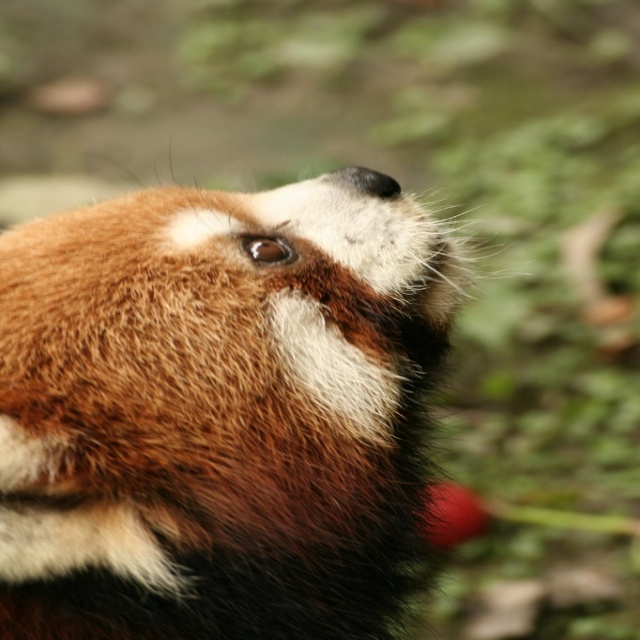Red panda: (0, 145, 541, 640)
